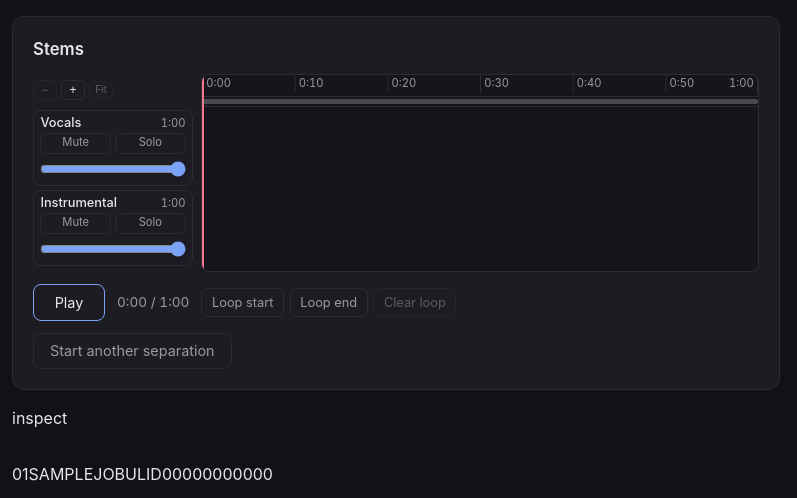
it: StemPlayer route out of the inspect phase (review finding 2) › clears the tracked job and returns to configure
Expected: the button with aria-label "Mute vocals" is shown, [40,133,111,154]
Expected: the button "Play" is enabled, [33,284,105,321]
Click the button "Start another separation". click: (132, 351)
box: [33,333,232,369]
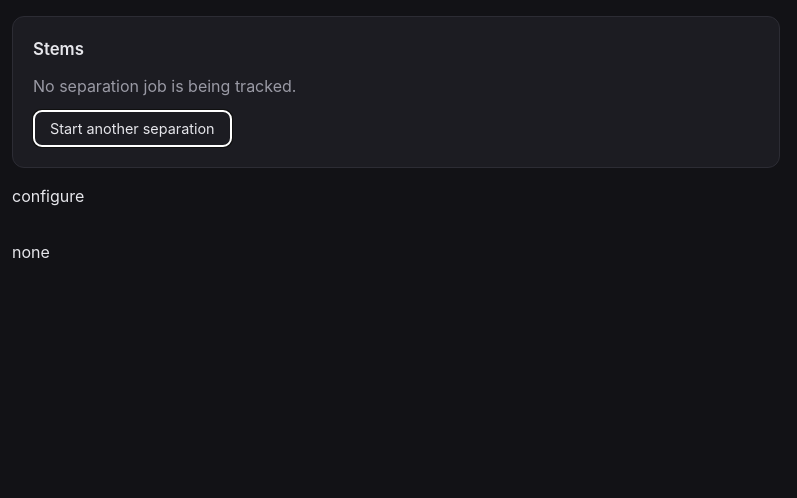
Now the text with test id "workflow-phase" reads "configure", box [12,186,84,206]
Now the text with test id "tracked-job" reads "none", box [12,242,50,262]
